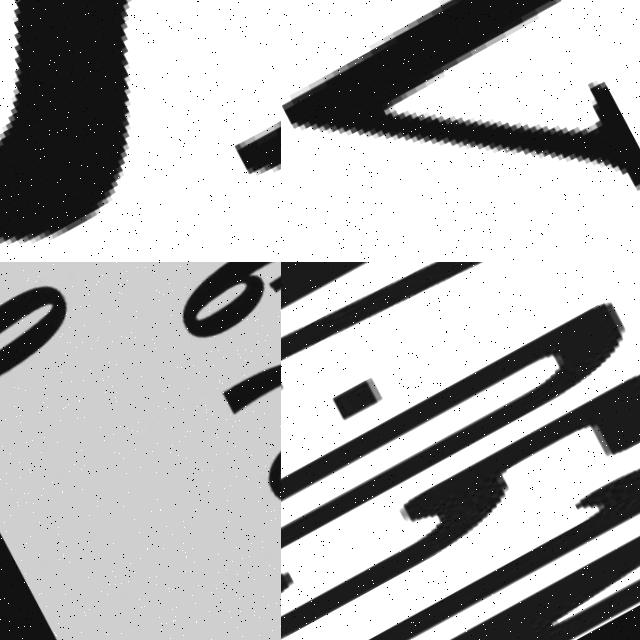0: (0, 262, 112, 424)
1: (281, 415, 640, 640)
4: (281, 262, 600, 499)
5: (281, 346, 640, 640)
6: (157, 262, 281, 357)
7: (188, 289, 281, 447)
D: (281, 281, 640, 618)
N: (281, 484, 640, 640), (281, 262, 544, 454)
S: (0, 0, 281, 262)
W: (281, 0, 640, 262)
